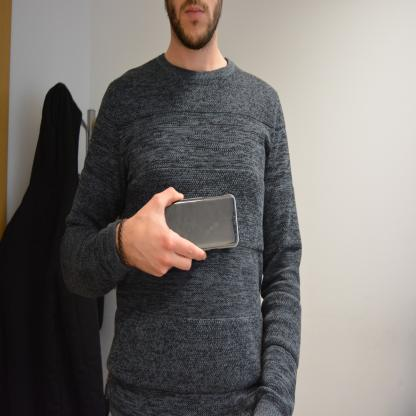smartphone: (163, 193, 239, 252)
